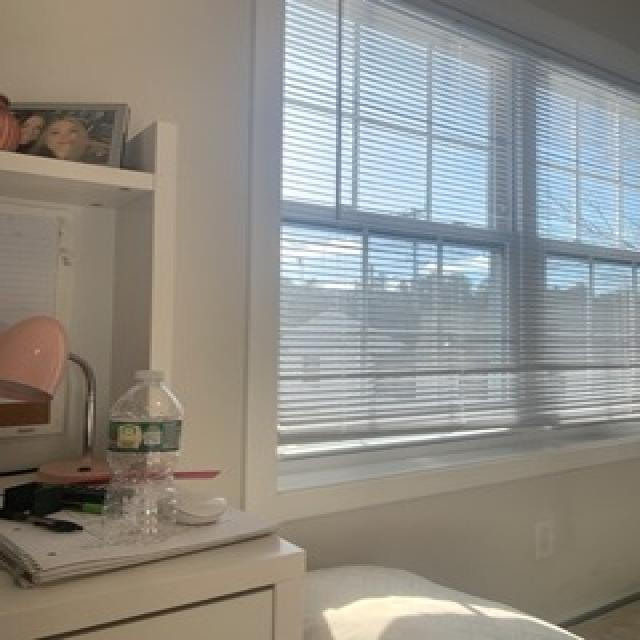water_bottle: (99, 367, 186, 547)
